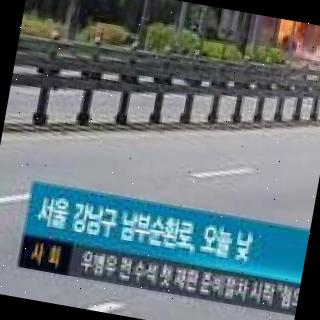fire: (278, 18, 308, 40)
